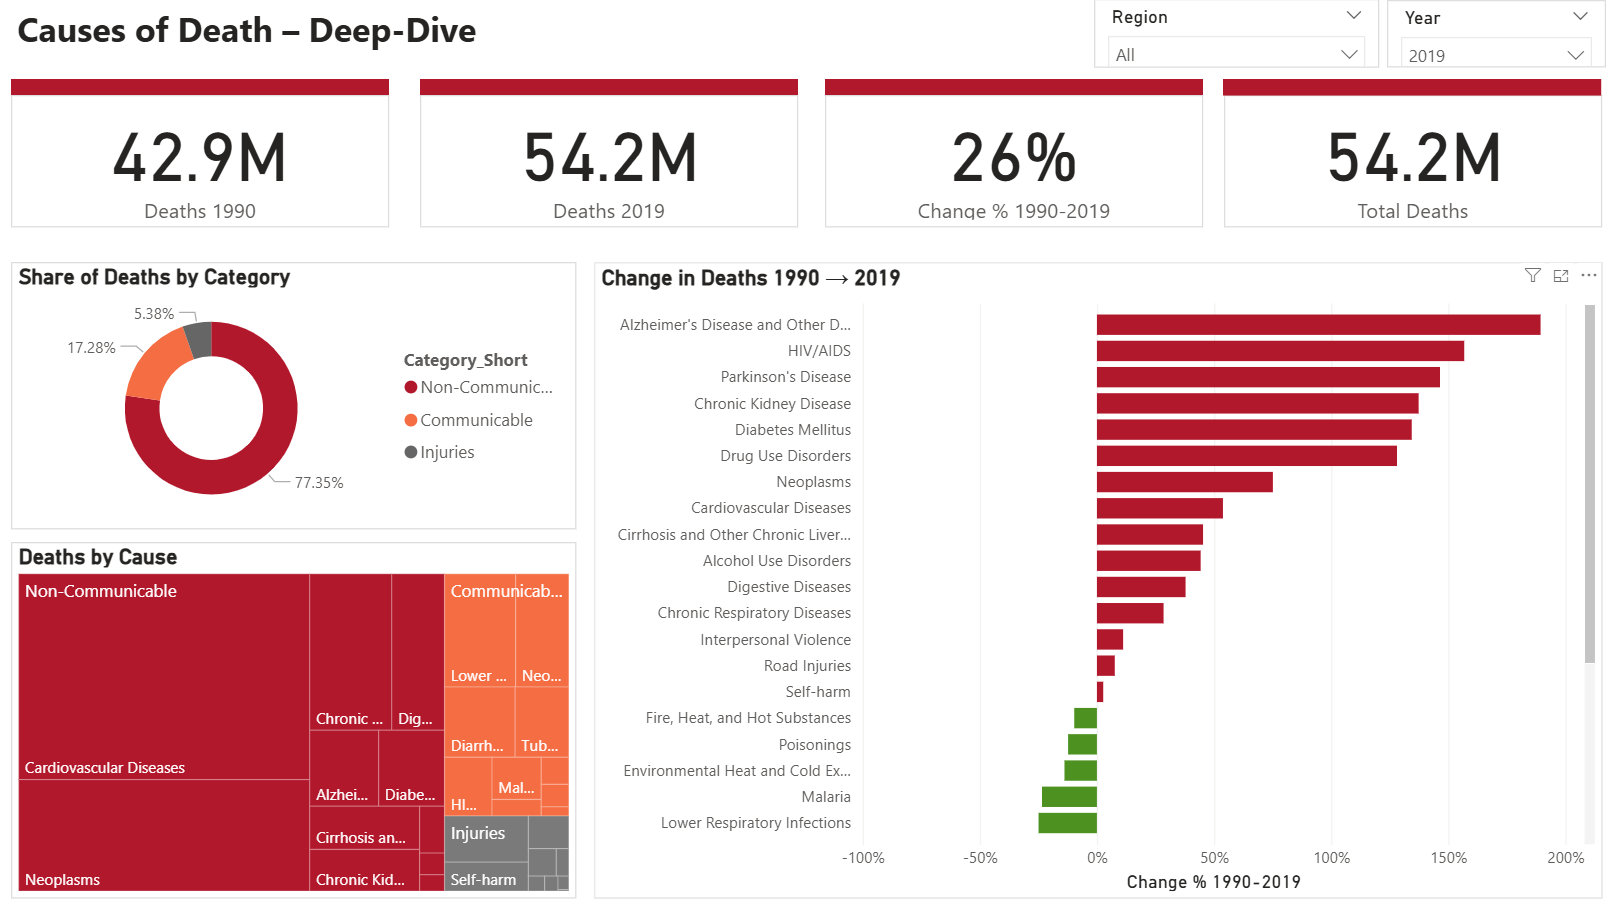

The dashboard page shown, as its layout file describes it:
{"tool":"powerbi","page":{"name":"Causes Deep-Dive","canvas":[1280,720],"ordinal":1},"visuals":[{"type":"card","fields":{"Values":["_Measures.Deaths 1990"]},"box":[14.1,79.3,296.8,104.4],"z":0},{"type":"shape","box":[14.1,66.7,296.8,12.6],"z":1000},{"type":"textbox","box":[14.1,3.9,837.9,54.2],"z":2000},{"type":"card","fields":{"Values":["_Measures.Total Deaths"]},"box":[966.7,79.3,296.8,104.4],"z":3000},{"type":"card","fields":{"Values":["_Measures.Change % 1990-2019"]},"box":[653.3,79.3,296.8,104.4],"z":4000},{"type":"card","fields":{"Values":["_Measures.Deaths 2019"]},"box":[335.3,79.3,296.8,104.4],"z":5000},{"type":"shape","box":[335.3,66.7,296.8,12.6],"z":6000},{"type":"shape","box":[653.3,66.7,296.8,12.6],"z":7000},{"type":"shape","box":[965.7,66.4,297.4,13.1],"z":8000},{"type":"slicer","fields":{"Values":["Dim_Country.Region"]},"box":[864.3,4.3,224.3,54.3],"z":9000},{"type":"donutChart","title":"Share of Deaths by Category","fields":{"Category":["Dim_Cause.Category_Short"],"Y":["_Measures.Total Deaths"]},"box":[14.1,210.5,444.5,210.5],"z":10000},{"type":"treemap","title":"Deaths by Cause","fields":{"Group":["Dim_Cause.Category_Short"],"Details":["Dim_Cause.Cause"],"Values":["_Measures.Total Deaths"]},"box":[14.1,430.3,444.5,280.3],"z":11000},{"type":"clusteredBarChart","title":"Change in Deaths 1990 → 2019","fields":{"Category":["Dim_Cause.Cause"],"Y":["_Measures.Change % 1990-2019"]},"box":[471.8,210.5,791.8,500.3],"z":12000},{"type":"slicer","fields":{"Values":["Dim_Year.Year"]},"box":[1094.7,4.7,172,53.4],"z":13000}]}

Visuals, with their boxes in screenshot pixels (x1, y1, x2, y2), scaled from the page's 1280x720 canvas onto the 1609x910 screenshot:
card - _Measures.Deaths 1990: [18, 100, 391, 232]
shape: [18, 84, 391, 100]
textbox: [18, 5, 1071, 73]
card - _Measures.Total Deaths: [1215, 100, 1588, 232]
card - _Measures.Change % 1990-2019: [821, 100, 1194, 232]
card - _Measures.Deaths 2019: [421, 100, 795, 232]
shape: [421, 84, 795, 100]
shape: [821, 84, 1194, 100]
shape: [1214, 84, 1588, 100]
slicer - Dim_Country.Region: [1086, 5, 1368, 74]
"Share of Deaths by Category" donutChart: [18, 266, 576, 532]
"Deaths by Cause" treemap: [18, 544, 576, 898]
"Change in Deaths 1990 → 2019" clusteredBarChart: [593, 266, 1588, 898]
slicer - Dim_Year.Year: [1376, 6, 1592, 73]
